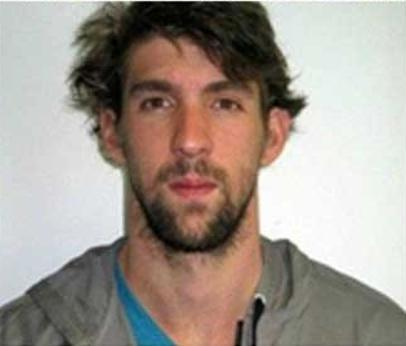Drunk: (125, 47, 260, 247)
